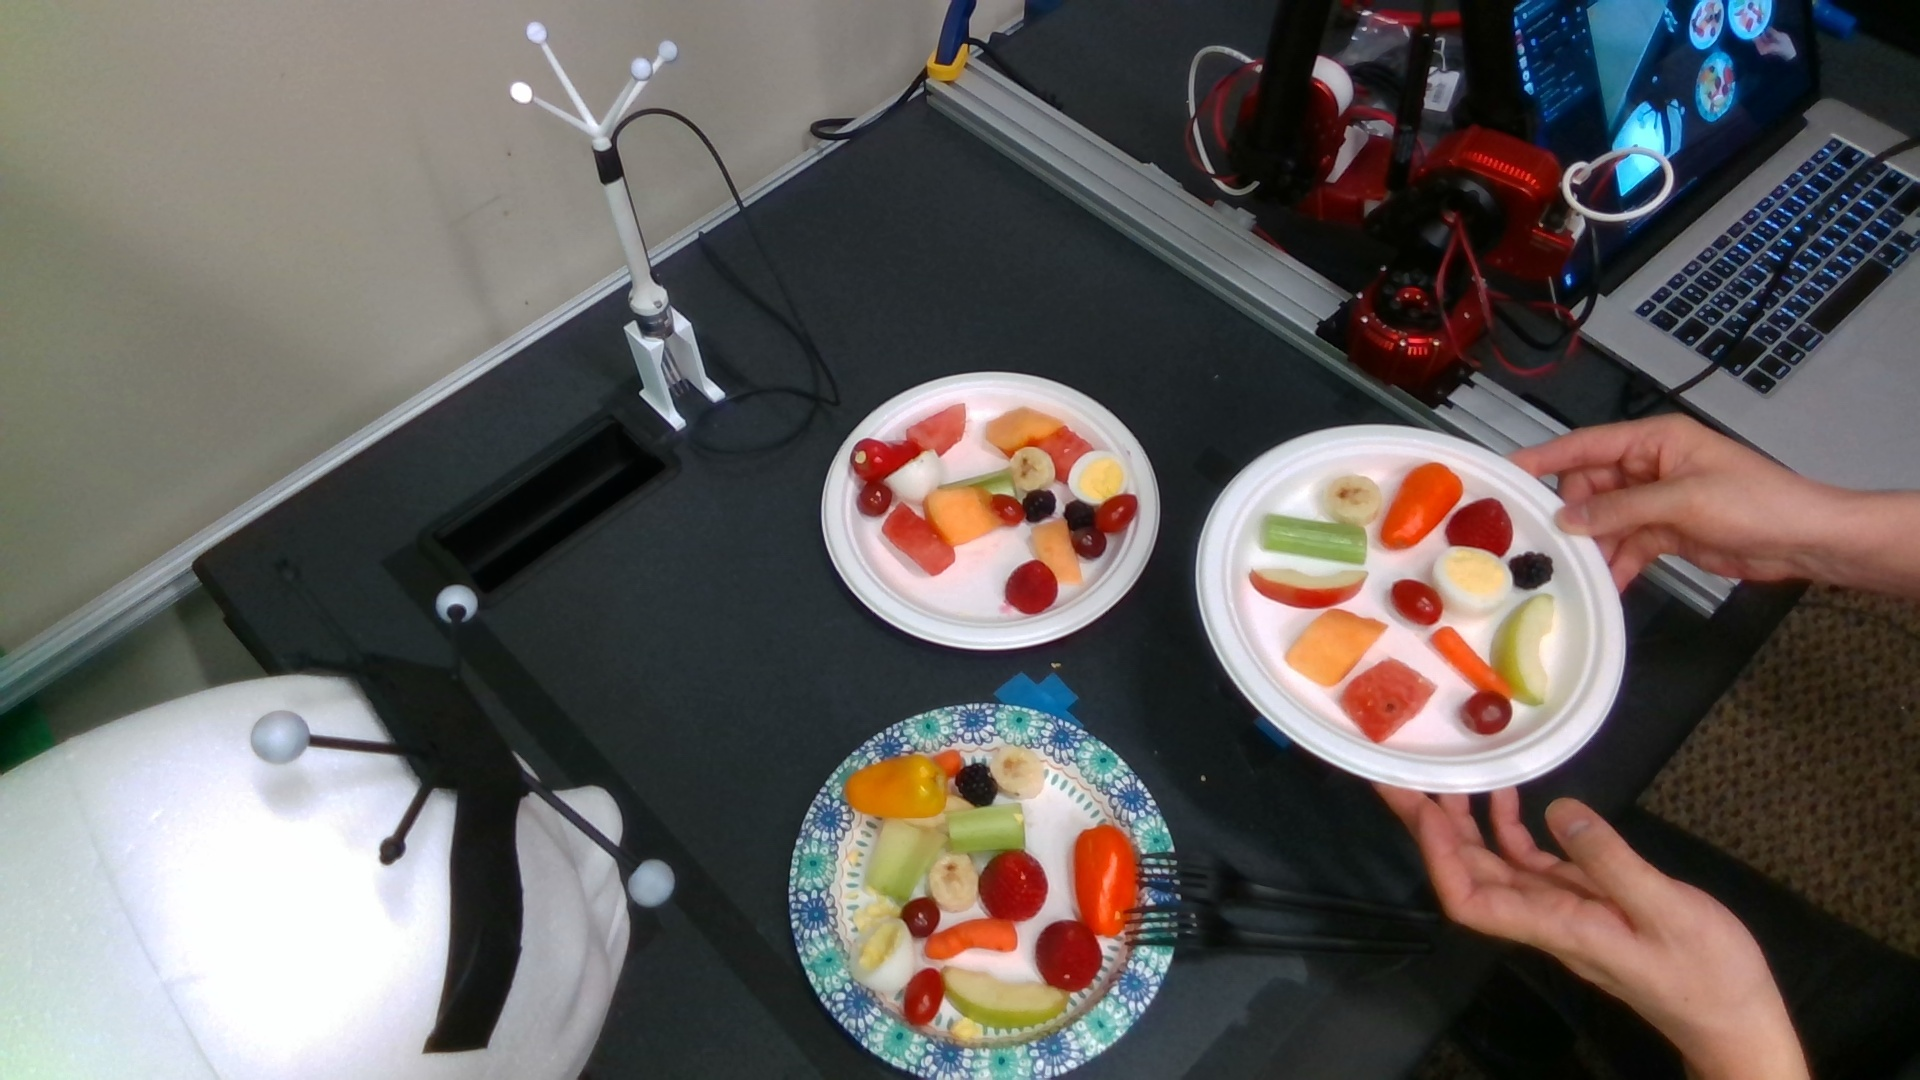apple: (942, 965, 1069, 1025), (1490, 593, 1553, 705), (1249, 568, 1369, 608)
banana: (930, 853, 977, 913), (1327, 475, 1381, 525), (992, 749, 1043, 798), (1011, 448, 1054, 491)
bell pepper: (1381, 462, 1462, 550), (1073, 824, 1135, 938), (845, 757, 945, 816), (852, 439, 920, 480)
blackberry: (957, 764, 997, 807), (1511, 554, 1552, 587), (1025, 491, 1056, 521), (1065, 500, 1093, 527)
cantalope: (1284, 611, 1383, 684), (924, 488, 1004, 543), (986, 409, 1062, 448), (1034, 522, 1083, 583)
carrot: (1431, 625, 1511, 699), (927, 919, 1015, 959)
celery: (870, 822, 943, 898), (1261, 513, 1367, 564), (949, 803, 1026, 851)
cherry tomato: (1393, 579, 1443, 622), (907, 969, 944, 1025), (1098, 496, 1135, 531), (993, 495, 1022, 525)
egg: (1433, 547, 1513, 616), (852, 918, 913, 989), (885, 448, 942, 501), (1069, 451, 1126, 502)
grape: (1462, 694, 1513, 733), (901, 898, 939, 936), (858, 481, 891, 516), (1073, 529, 1106, 558)
melon: (1340, 661, 1435, 742), (884, 504, 953, 574), (910, 405, 967, 454)
plate: (1195, 425, 1625, 791), (790, 703, 1179, 1080), (820, 371, 1159, 650)
strawberry: (981, 853, 1047, 920), (1038, 922, 1100, 990), (1447, 498, 1513, 556), (1007, 560, 1056, 613)
